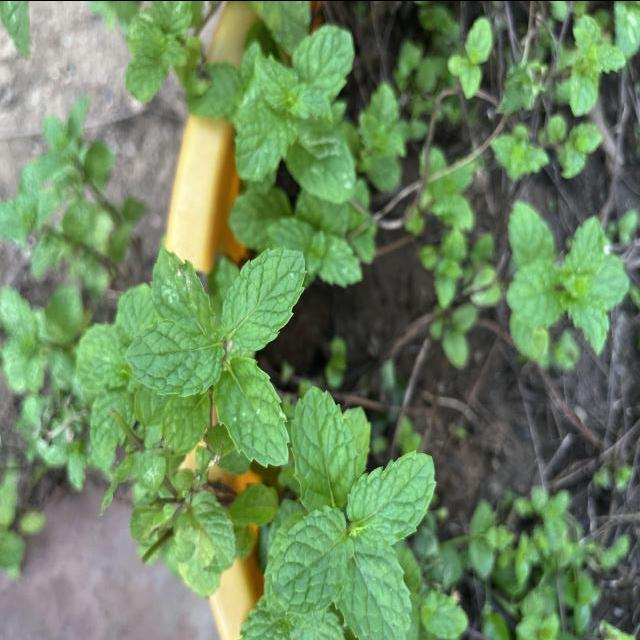Mentha spicata: (218, 242, 310, 353), (268, 503, 353, 615), (289, 381, 362, 511), (346, 447, 438, 548), (211, 355, 291, 468), (123, 316, 224, 398)
